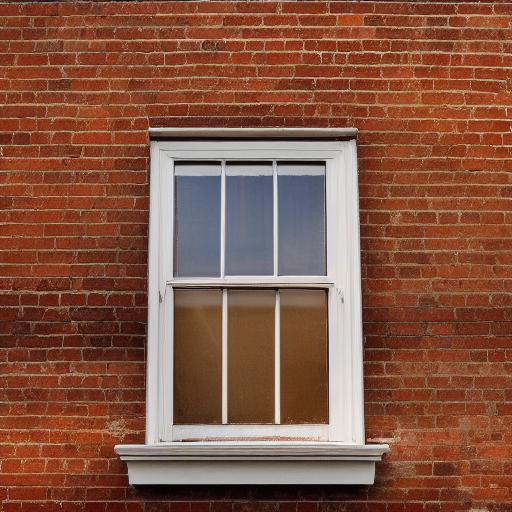Window: (114, 114, 396, 493)
